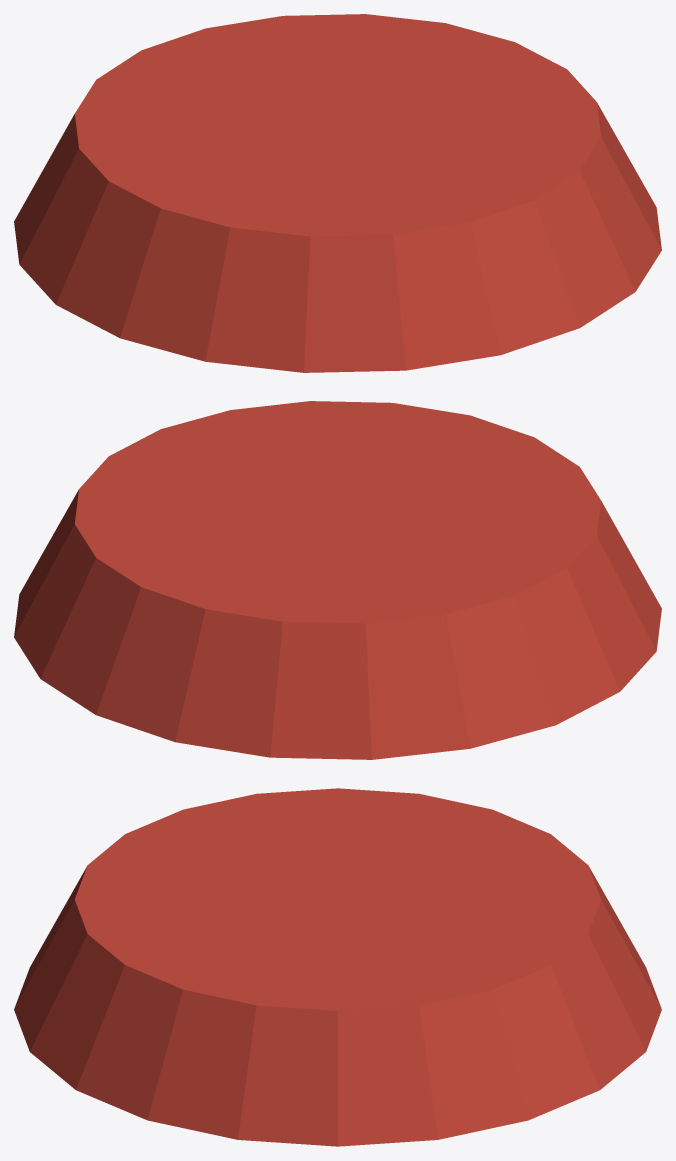
File: cat_bowl.fbx
3 renders of one model, top to bottom at view 1: azimuth 30°, elevation 25°; view 2: azimuth 150°, elevation 25°; view 3: azimuth 270°, elevation 25°, orthographic.
Parts seen in each view (by area): view 1: cat_bowl; view 2: cat_bowl; view 3: cat_bowl.
Boxes of the visible parts, bbox=[...] form: cat_bowl: bbox=[14, 14, 661, 372]; cat_bowl: bbox=[14, 401, 661, 759]; cat_bowl: bbox=[14, 788, 661, 1146].
Bounding box in the file's own units: 0.32 × 0.06 × 0.32.
